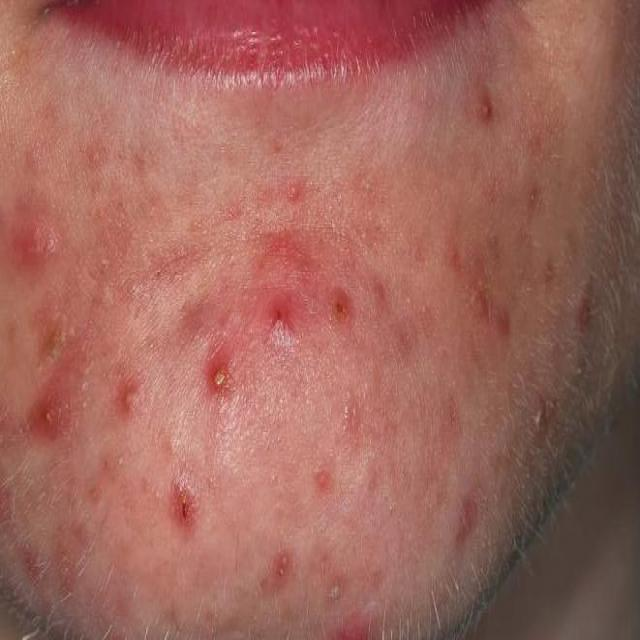blackheads: (21, 200, 60, 262), (38, 316, 76, 366), (30, 394, 77, 434), (474, 280, 509, 333), (168, 469, 204, 517), (264, 538, 290, 596), (576, 262, 594, 332), (264, 299, 292, 344), (120, 374, 145, 422), (323, 285, 352, 326), (532, 392, 556, 434), (323, 568, 345, 610), (312, 454, 332, 490), (478, 78, 492, 128), (208, 365, 230, 392)
